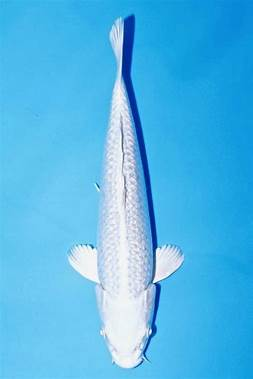white: (68, 16, 184, 369)
